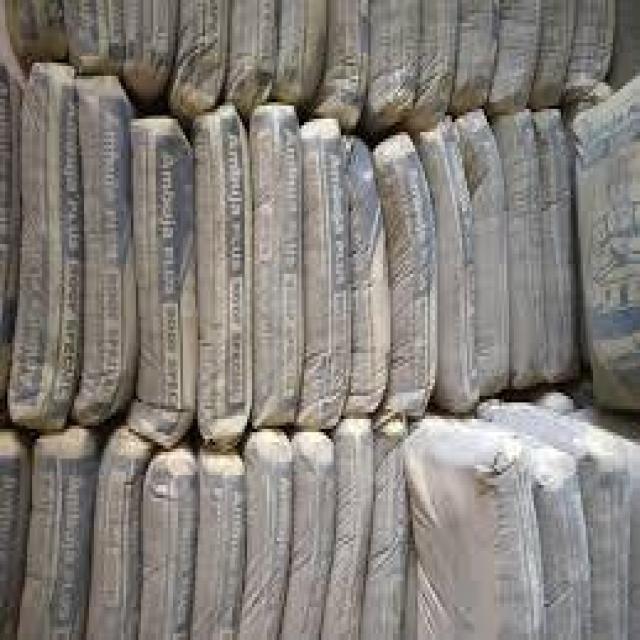gunny_bag: (479, 389, 640, 634), (405, 415, 553, 640), (9, 63, 83, 423), (70, 78, 141, 430), (569, 72, 640, 419), (127, 115, 199, 457), (189, 102, 254, 450), (416, 109, 484, 416), (372, 132, 441, 422), (511, 427, 596, 640), (249, 108, 302, 442), (18, 425, 98, 640), (457, 105, 513, 400), (491, 102, 546, 393), (341, 125, 393, 417), (303, 119, 352, 423), (530, 99, 578, 387), (87, 427, 148, 640), (140, 449, 200, 640), (189, 457, 250, 640), (240, 438, 292, 640), (361, 417, 408, 640), (285, 434, 336, 639), (325, 429, 372, 640), (404, 0, 464, 131), (314, 0, 372, 131), (485, 3, 549, 121), (368, 2, 425, 128), (171, 2, 230, 121), (276, 0, 333, 113), (448, 2, 501, 115), (125, 3, 181, 106), (230, 0, 278, 115), (529, 0, 579, 109), (64, 0, 124, 75), (4, 0, 69, 65), (570, 0, 613, 90)
